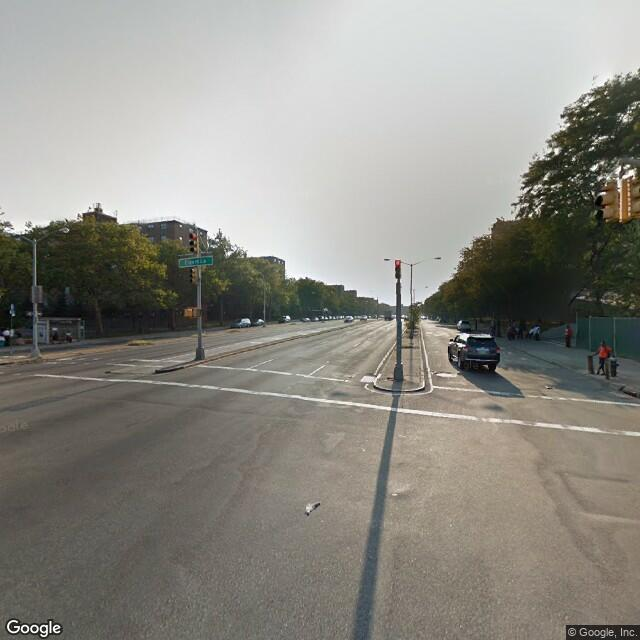litter: (304, 499, 319, 517), (541, 382, 554, 391)
